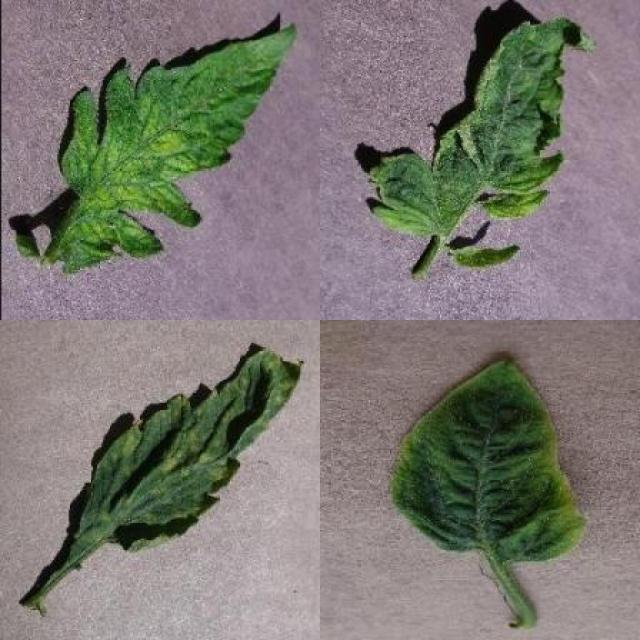Leaf Mold: (78, 346, 301, 551)
Mosaic Virus: (44, 20, 299, 277), (368, 17, 599, 270)
Yellow Leaf Curl Virus: (391, 354, 588, 566)
